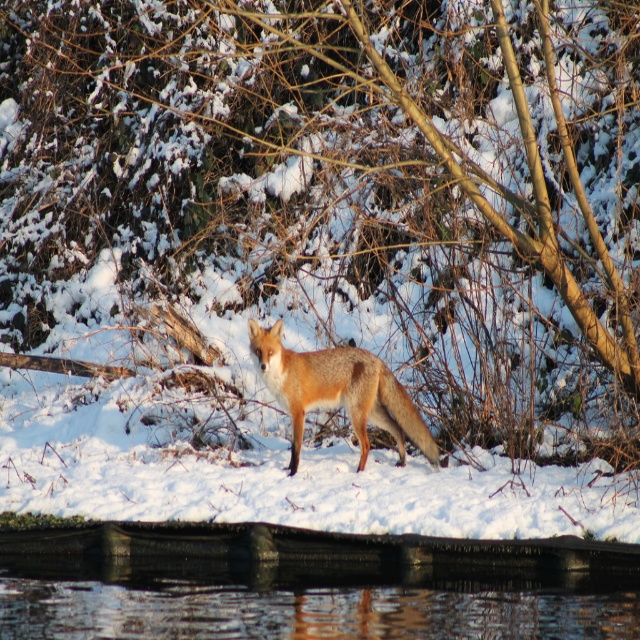Fox: (247, 316, 441, 478)
